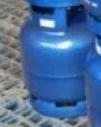cylinder: (1, 0, 101, 127)
